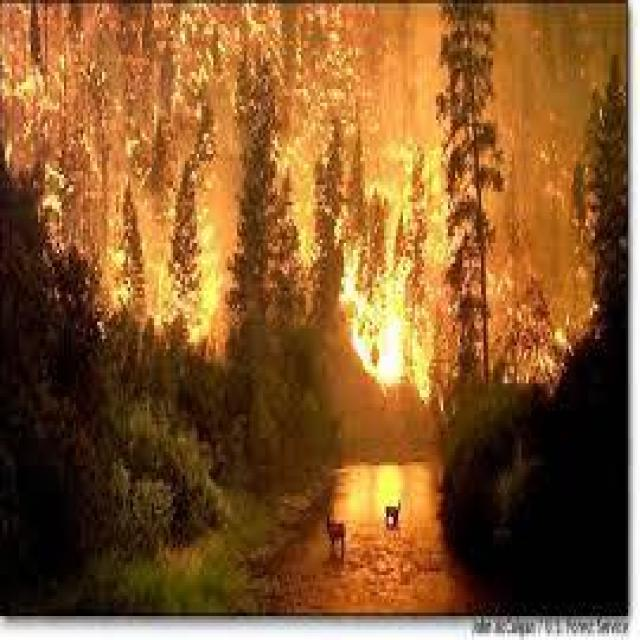fire: (16, 3, 391, 159), (65, 190, 234, 347), (330, 280, 469, 436)
